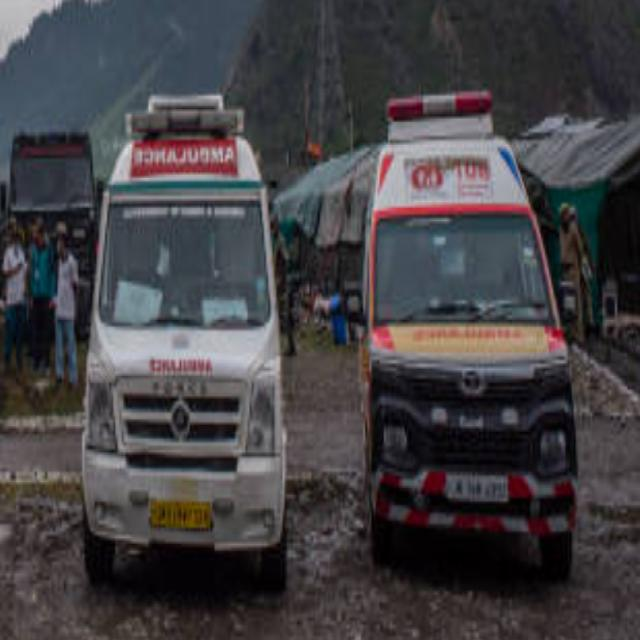emergency_vehicle: (351, 78, 593, 592), (80, 80, 298, 567)
